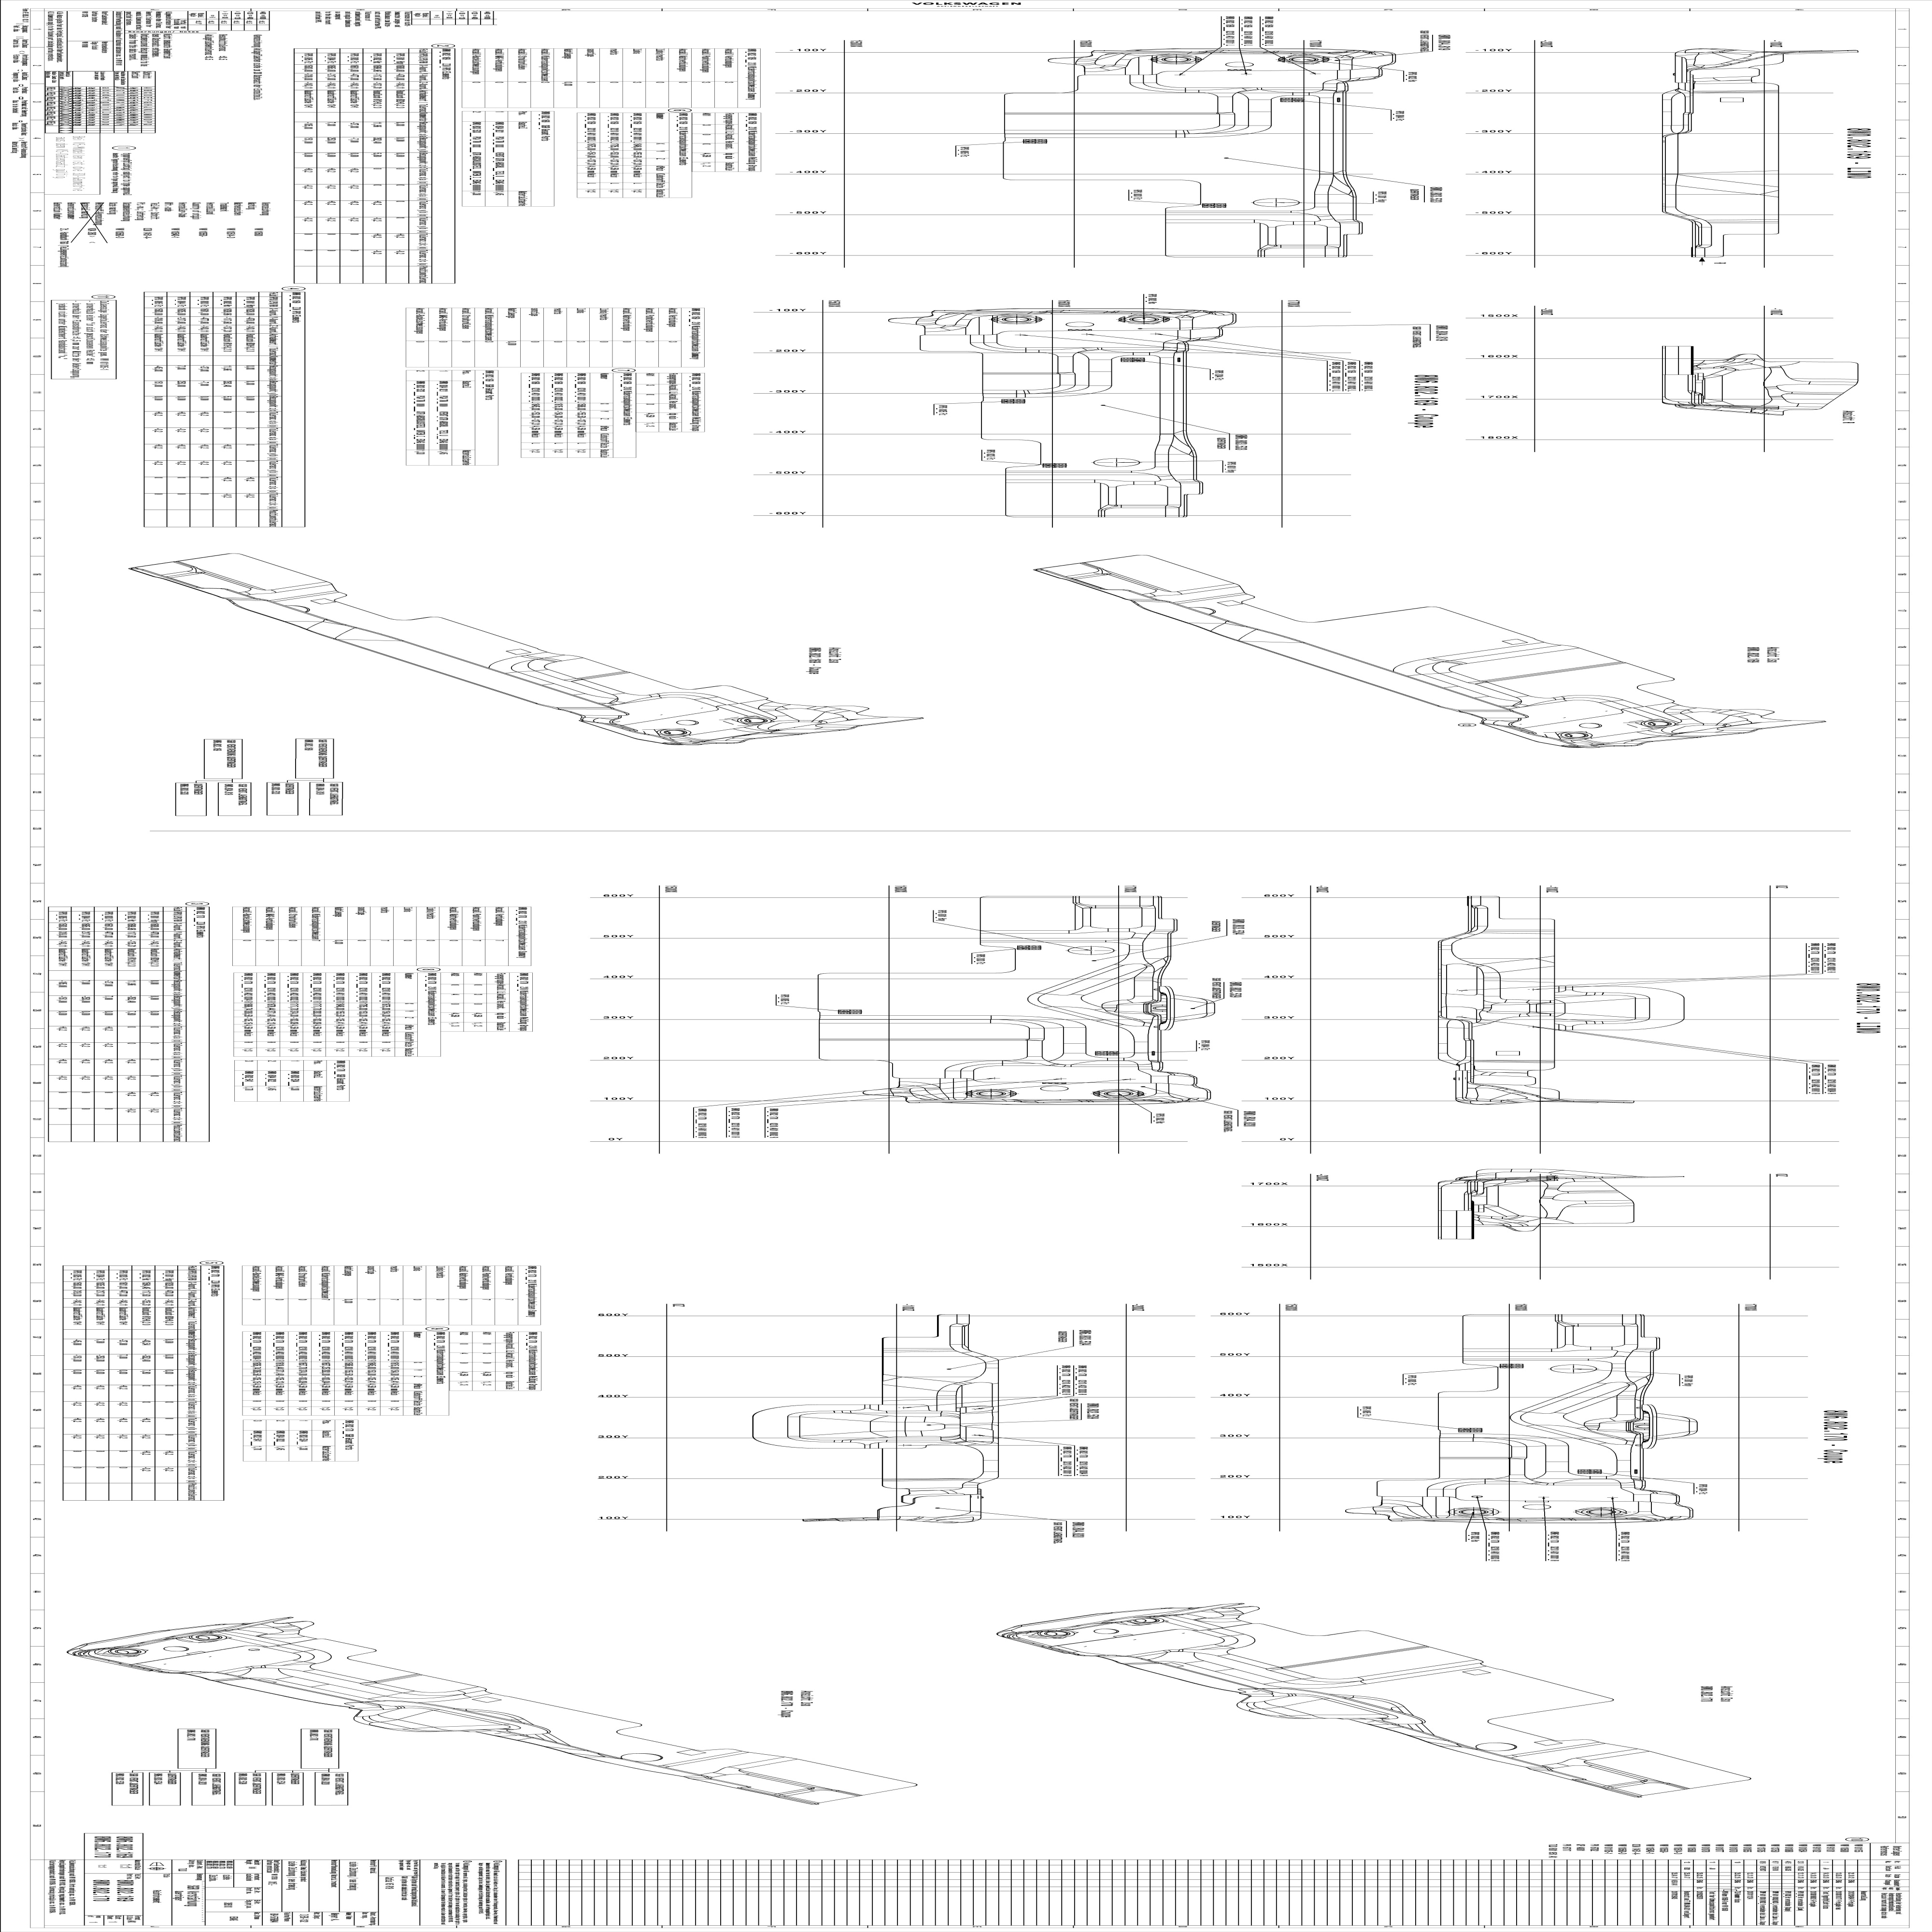InnerContour: (1067, 941, 1113, 959), (1092, 455, 1143, 469), (1548, 1364, 1599, 1376), (1249, 196, 1304, 207)
ThroughHole: (188, 1631, 226, 1645), (1099, 1086, 1138, 1100), (1580, 1506, 1621, 1518), (973, 1086, 1008, 1100), (1454, 1506, 1493, 1518), (1553, 729, 1591, 741), (1286, 53, 1323, 65), (655, 725, 692, 738), (732, 715, 770, 727), (108, 1645, 142, 1658), (998, 315, 1035, 326), (1125, 313, 1162, 324), (1157, 55, 1194, 65), (1037, 1629, 1070, 1640), (1640, 718, 1674, 729), (1127, 1617, 1162, 1626)
